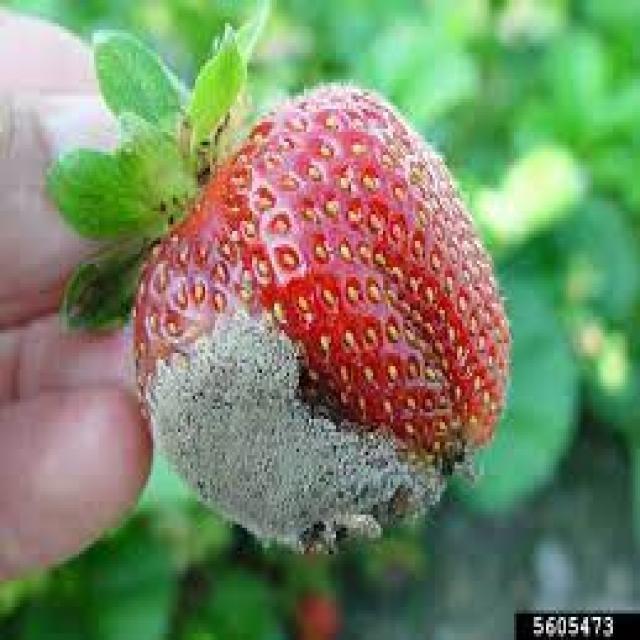Moho gris: (61, 45, 523, 559)
